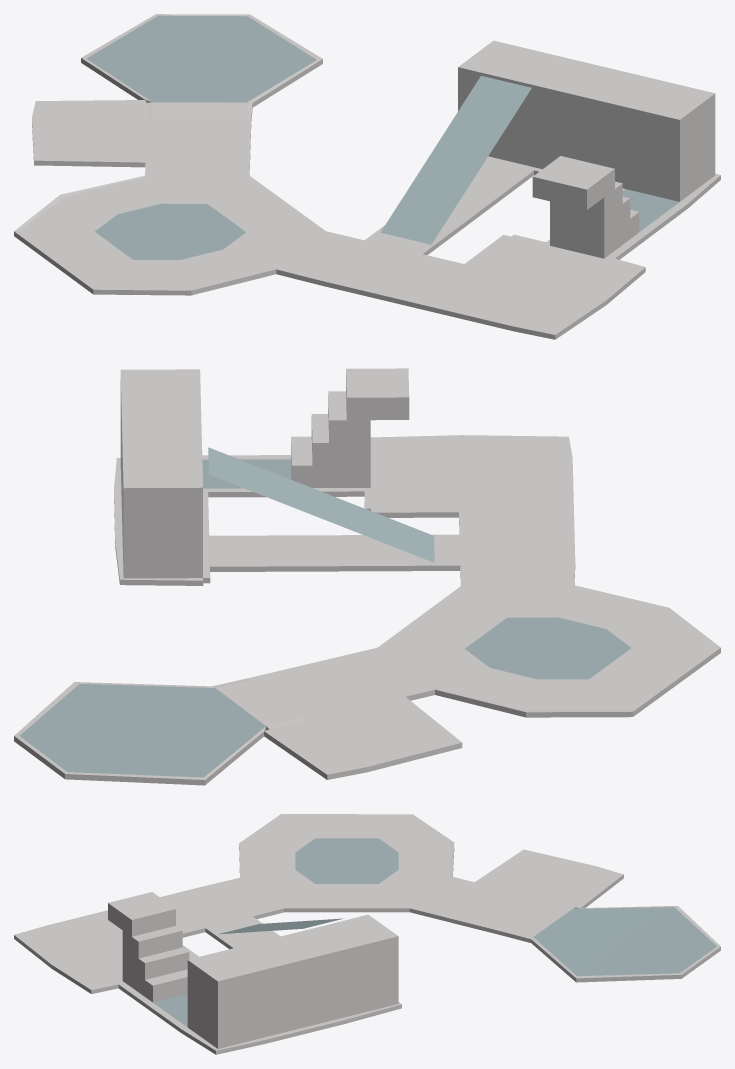
Rendered from tutorial_floors.fbx.
The picture shows the model from 3 angles, top to bottom: view 1: azimuth 30°, elevation 25°; view 2: azimuth 150°, elevation 25°; view 3: azimuth 270°, elevation 25°; orthographic projection. The views are drawn at different scales.
Visible parts, largest first — view 1: floors; view 2: floors; view 3: floors.
Part boxes in pixels (<box>): floors: <box>14,14,720,339</box>; floors: <box>14,368,720,785</box>; floors: <box>14,814,720,1054</box>.
Bounding box in the file's own units: 35.57 × 5.02 × 44.89.
